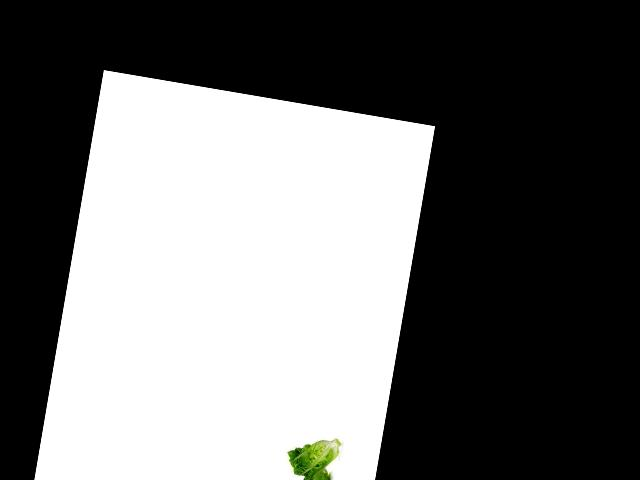lettuce: (285, 430, 345, 480)
